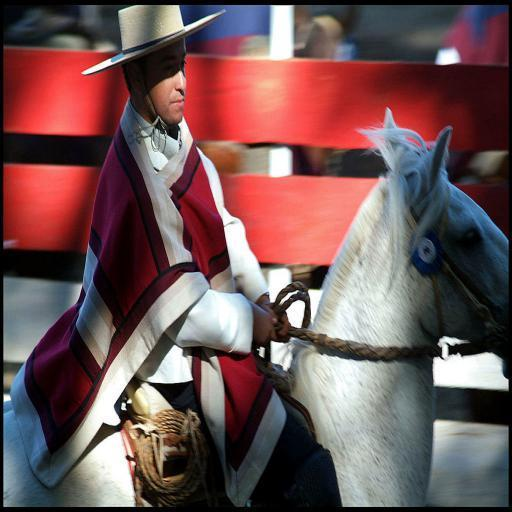horse: (2, 104, 509, 508)
